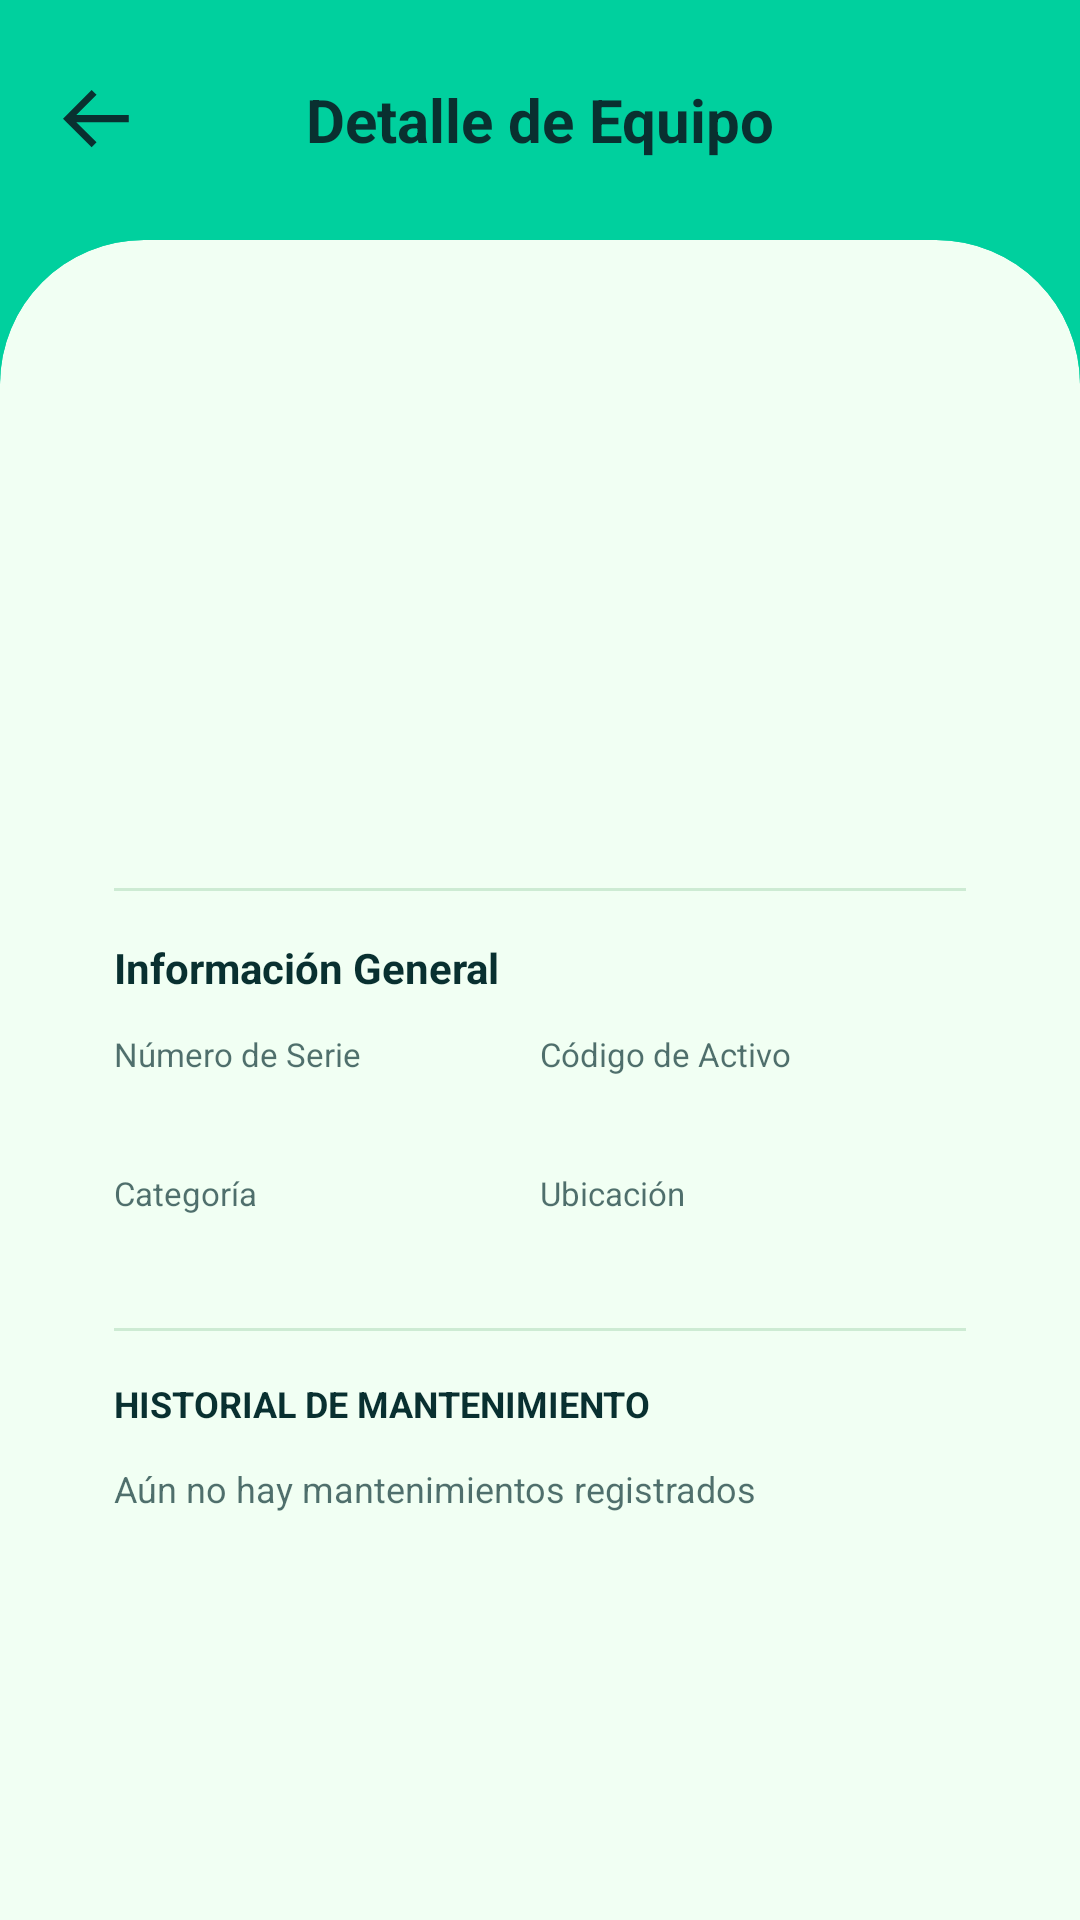

Icons on this 1080 × 1920 Android screen, each with its box as (x1, y1, x2, y2):
arrow back: (63, 90, 129, 147)
